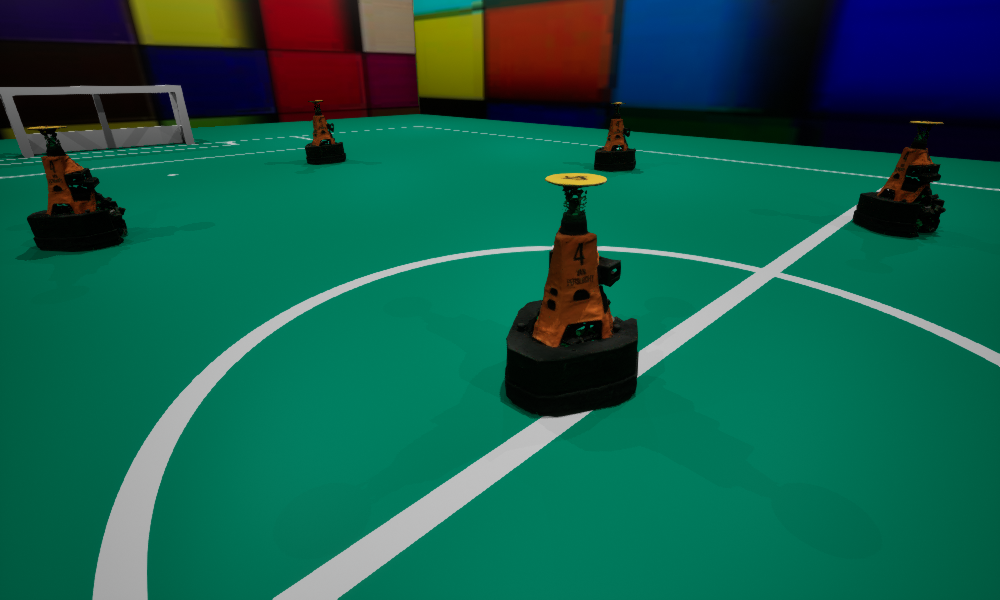0 orange robot TechUnited: (505, 173, 638, 416), (27, 126, 126, 251), (853, 121, 945, 237), (594, 102, 635, 171), (305, 100, 345, 164)
